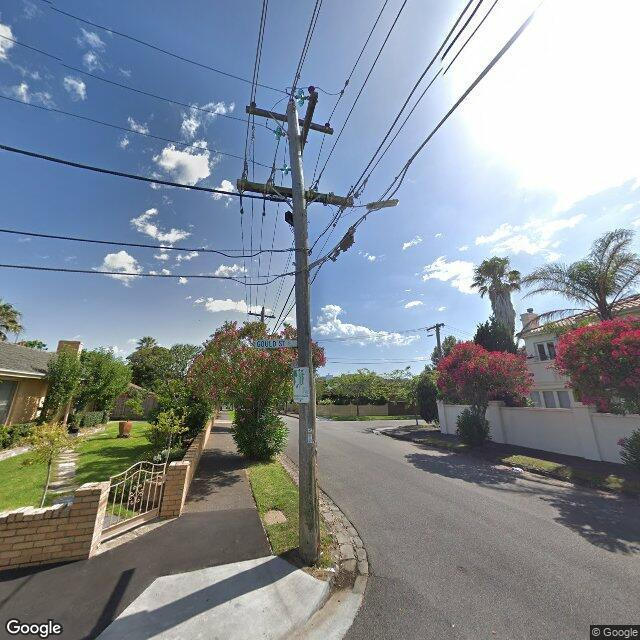HV-transmission: (246, 88, 334, 174)
crossarm: (236, 157, 353, 228), (246, 105, 334, 135), (301, 92, 319, 154), (248, 310, 275, 319), (427, 323, 445, 331)
streetlight: (286, 98, 321, 563), (352, 198, 401, 212), (427, 333, 437, 337)
timber-pole: (436, 324, 441, 358), (261, 306, 265, 323)
